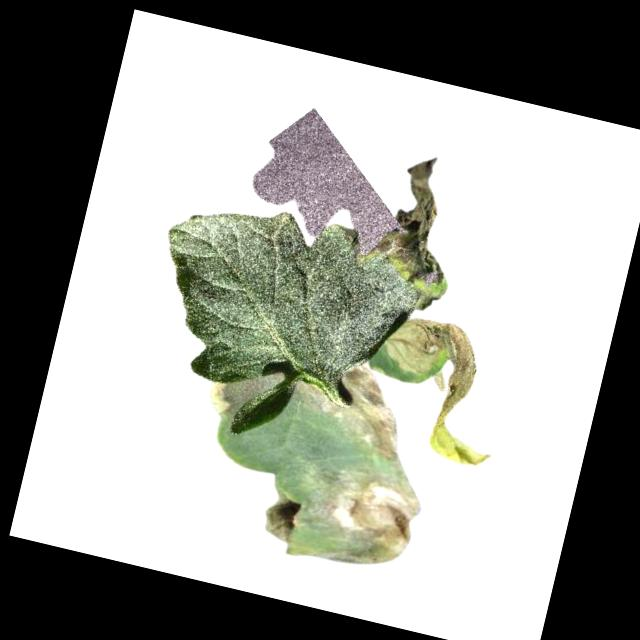Late_blight: (362, 307, 525, 473), (255, 448, 427, 584), (365, 149, 480, 307), (285, 353, 420, 465), (204, 361, 284, 428)
healthy: (135, 188, 430, 424)
